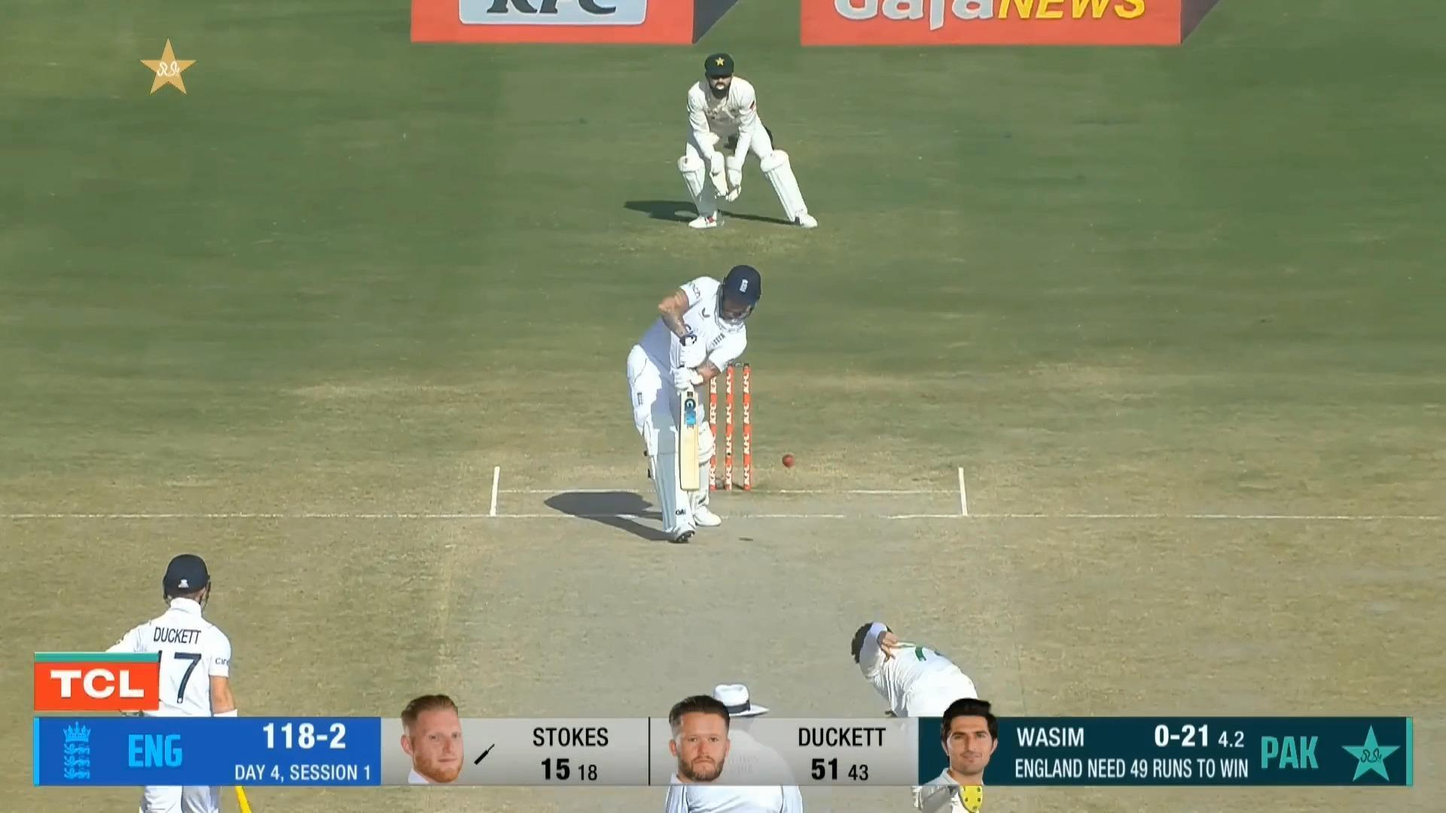BM 1: (625, 262, 763, 545)
BO: (848, 617, 984, 813)
